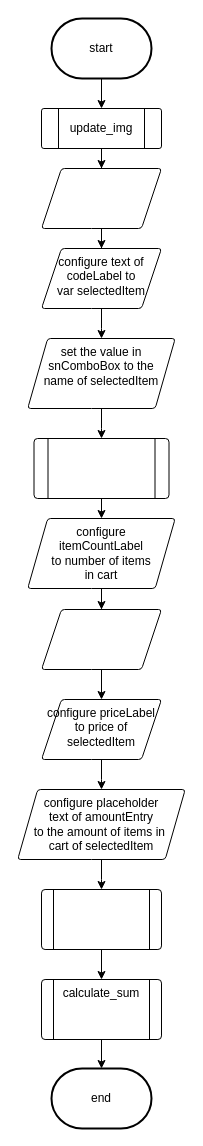
Some shapes in this 203 by 1146 pixel diagram are drawn without their labels. Each missing label, with the box of its shape:
configure discountLabel to selected discount: (40, 608, 162, 670)
configure options for snComboBox to var itemList: (40, 168, 162, 228)
get number of items in cart from function read_cart: (33, 438, 169, 498)
show_cart: (40, 888, 162, 950)
